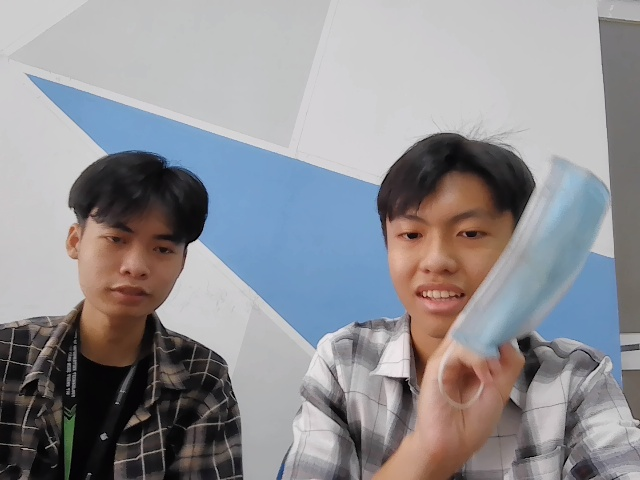human: (383, 137, 531, 326), (67, 150, 210, 316)
mask: (444, 149, 605, 370)
